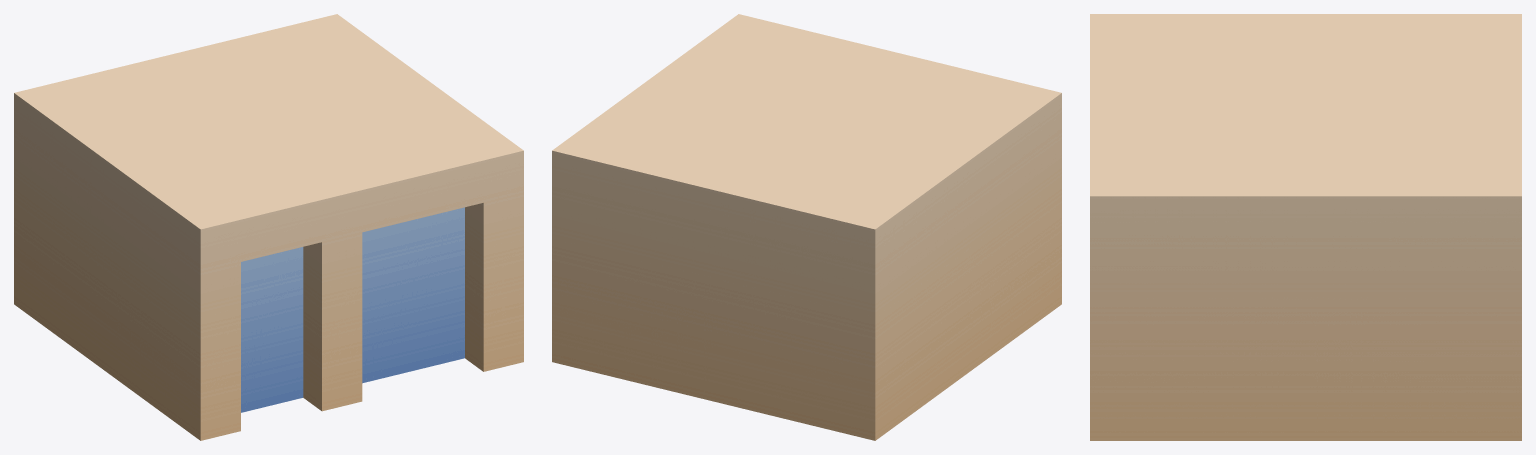
3 renders of one model, left to right at view 1: azimuth 30°, elevation 25°; view 2: azimuth 150°, elevation 25°; view 3: azimuth 270°, elevation 25°, orthographic. The views are drawn at different scales.
Visible parts, largest first — view 1: building-door-window; view 2: building-door-window; view 3: building-door-window.
Boxes of the visible parts, left/top/right/bottom form: building-door-window: left=14, top=14, right=523, bottom=440; building-door-window: left=552, top=14, right=1061, bottom=440; building-door-window: left=1090, top=14, right=1521, bottom=440.
Bounding box in the file's own units: 1 × 0.625 × 1.
Materials: 1 (1 with a texture image).
